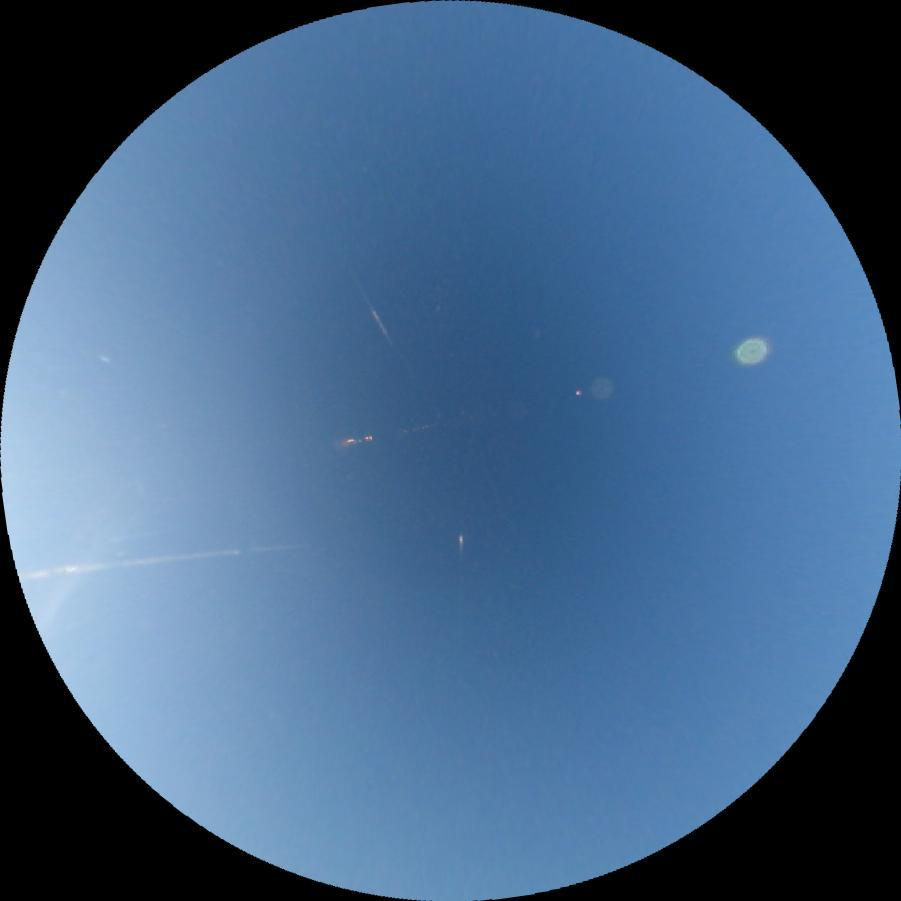parasite: (17, 537, 299, 585), (364, 296, 397, 352), (456, 527, 466, 563)
